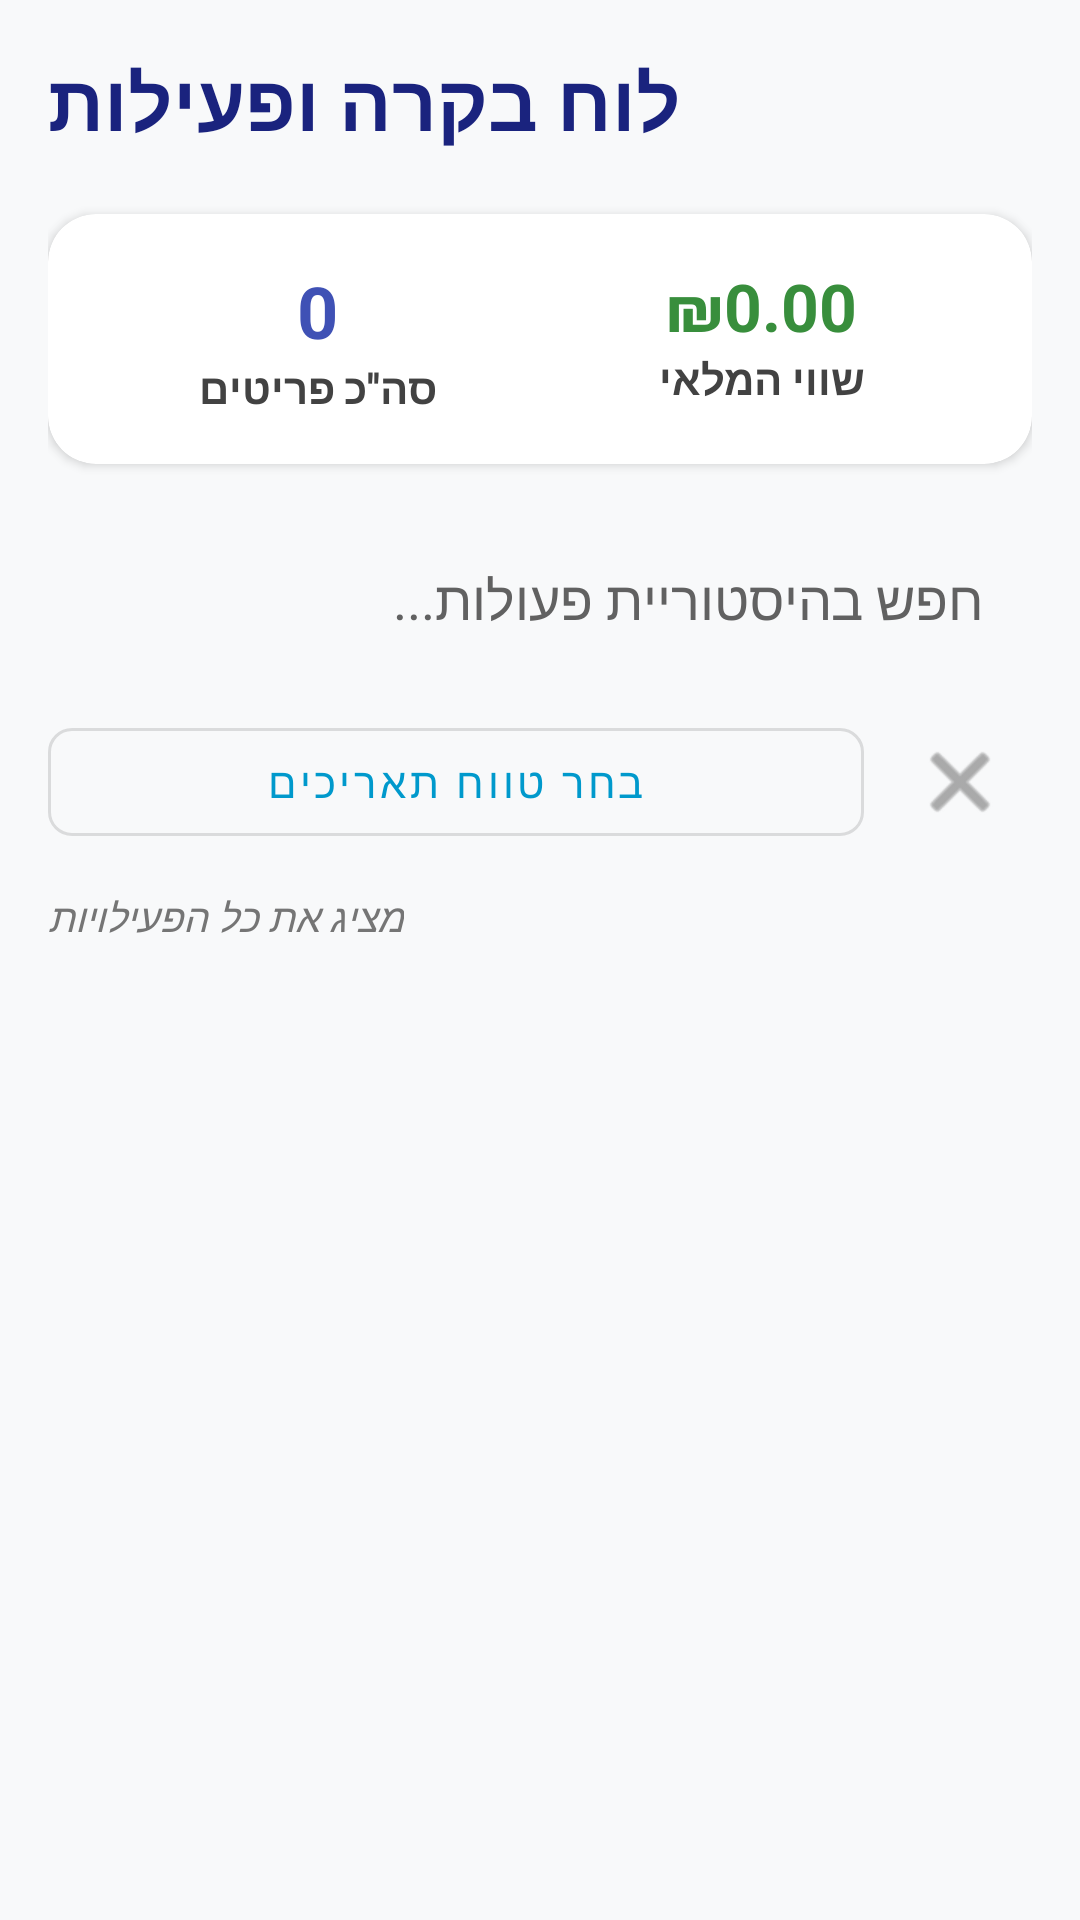

Icon bounding boxes for this 1080 x 1920 phone screenshot, format box=[x1, y1, x2, y2]:
נקה: box=[930, 752, 990, 812]
